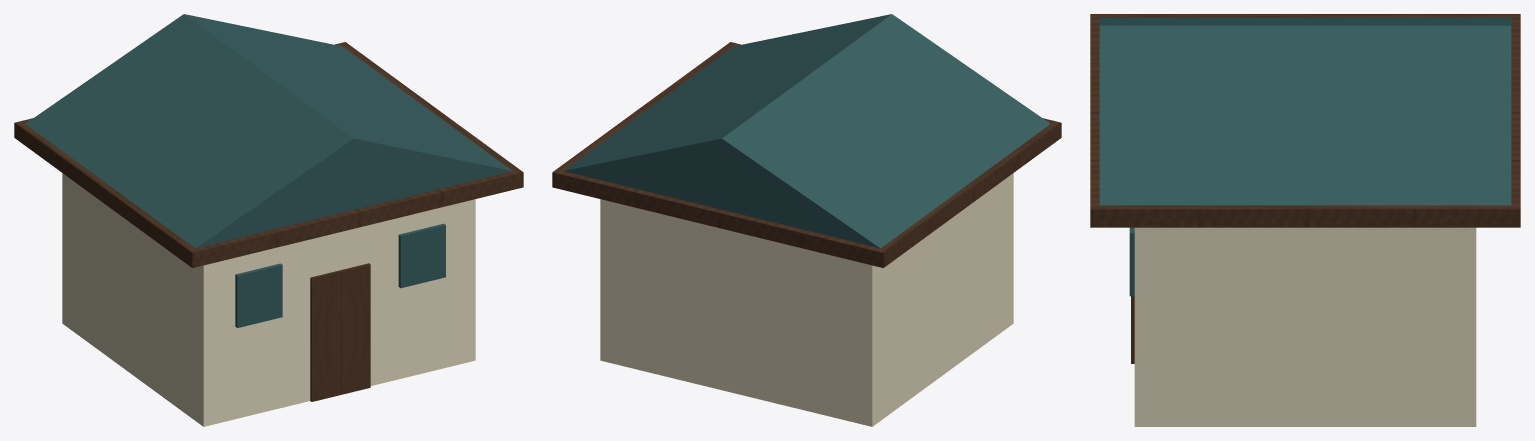
Rendered from house.glb.
The picture shows the model from 3 angles, left to right: view 1: azimuth 30°, elevation 25°; view 2: azimuth 150°, elevation 25°; view 3: azimuth 270°, elevation 25°; orthographic projection. The views are drawn at different scales.
Size of the model in its own units: 3.65 by 2.8 by 3.4.
Materials: 6 (2 with a texture image).
